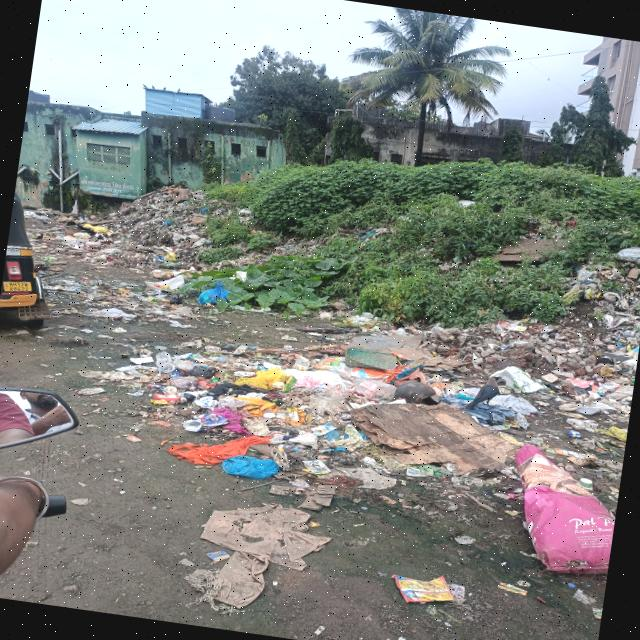garbage: (134, 234, 640, 600), (29, 198, 178, 328), (126, 182, 240, 222)
